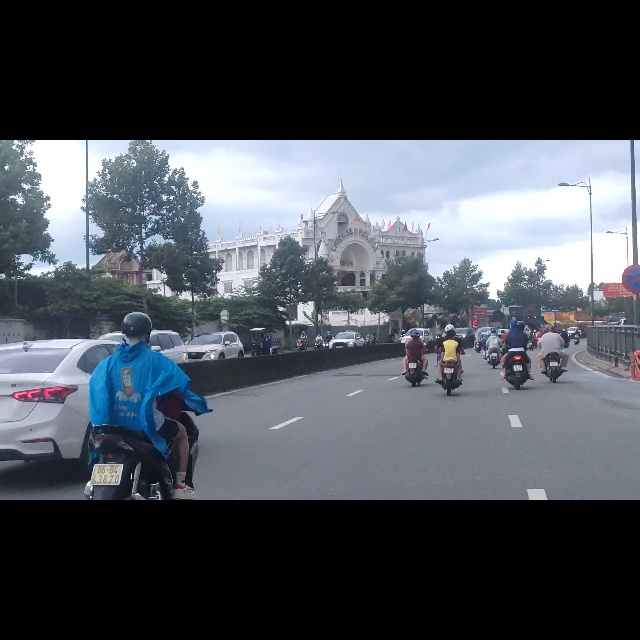bien_cam: (622, 222, 640, 272)
